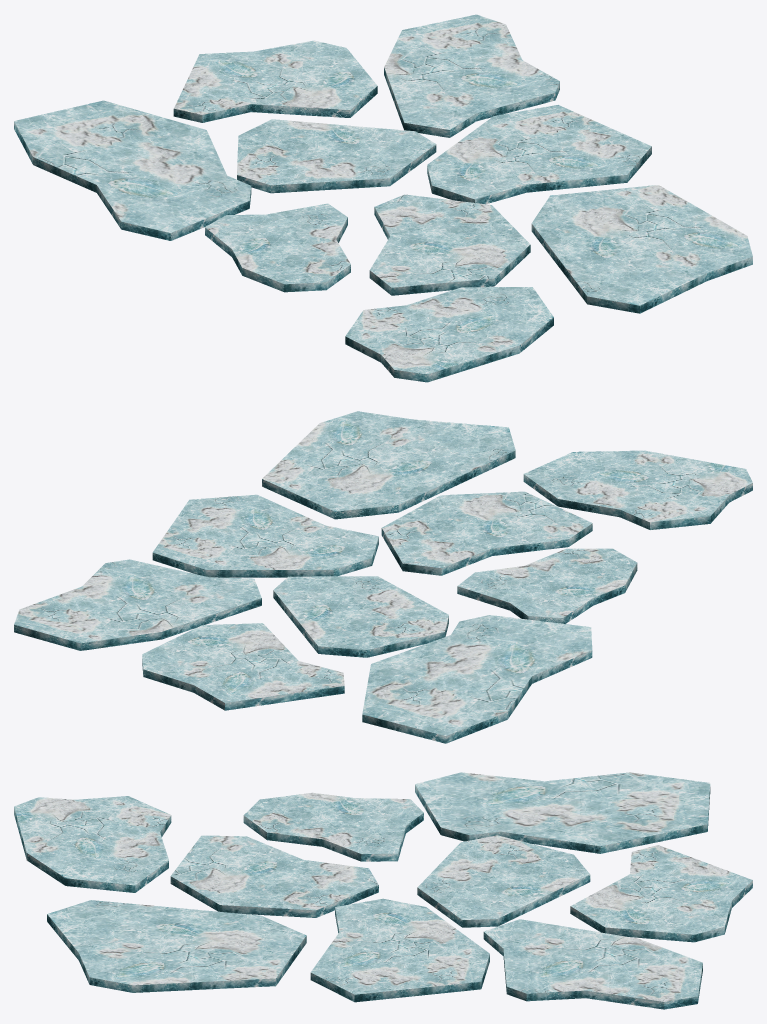
Rendered from environment_stone_bingkuai_001_a.FBX.
3 renders of one model, top to bottom at view 1: azimuth 30°, elevation 25°; view 2: azimuth 150°, elevation 25°; view 3: azimuth 270°, elevation 25°, orthographic. The views are drawn at different scales.
Parts seen in each view (by area): view 1: environment_stone_bingkuai_001_a, environment_stone_bingkuai_001_f, environment_stone_bingkuai_001_d, environment_stone_bingkuai_001_e, environment_stone_bingkuai_001_j, environment_stone_bingkuai_001_c, environment_stone_bingkuai_001_g, environment_stone_bingkuai_001_b, environment_stone_bingkuai_001_h; view 2: environment_stone_bingkuai_001_a, environment_stone_bingkuai_001_f, environment_stone_bingkuai_001_e, environment_stone_bingkuai_001_d, environment_stone_bingkuai_001_j, environment_stone_bingkuai_001_g, environment_stone_bingkuai_001_c, environment_stone_bingkuai_001_b, environment_stone_bingkuai_001_h; view 3: environment_stone_bingkuai_001_a, environment_stone_bingkuai_001_f, environment_stone_bingkuai_001_e, environment_stone_bingkuai_001_d, environment_stone_bingkuai_001_j, environment_stone_bingkuai_001_g, environment_stone_bingkuai_001_c, environment_stone_bingkuai_001_b, environment_stone_bingkuai_001_h.
Part boxes in pixels (<box>): environment_stone_bingkuai_001_a: <box>14,100,251,240</box>; environment_stone_bingkuai_001_f: <box>531,185,752,313</box>; environment_stone_bingkuai_001_d: <box>427,105,651,204</box>; environment_stone_bingkuai_001_e: <box>384,14,559,137</box>; environment_stone_bingkuai_001_j: <box>345,287,553,382</box>; environment_stone_bingkuai_001_c: <box>173,40,377,122</box>; environment_stone_bingkuai_001_g: <box>369,194,530,295</box>; environment_stone_bingkuai_001_b: <box>237,119,436,193</box>; environment_stone_bingkuai_001_h: <box>205,203,350,292</box>; environment_stone_bingkuai_001_a: <box>362,615,592,743</box>; environment_stone_bingkuai_001_f: <box>262,411,515,519</box>; environment_stone_bingkuai_001_e: <box>14,559,261,650</box>; environment_stone_bingkuai_001_d: <box>152,494,378,577</box>; environment_stone_bingkuai_001_j: <box>523,450,752,529</box>; environment_stone_bingkuai_001_g: <box>381,491,592,575</box>; environment_stone_bingkuai_001_c: <box>142,623,344,710</box>; environment_stone_bingkuai_001_b: <box>273,576,448,657</box>; environment_stone_bingkuai_001_h: <box>457,548,637,623</box>; environment_stone_bingkuai_001_a: <box>415,772,710,853</box>; environment_stone_bingkuai_001_f: <box>47,900,306,992</box>; environment_stone_bingkuai_001_e: <box>483,919,702,1009</box>; environment_stone_bingkuai_001_d: <box>310,898,489,1002</box>; environment_stone_bingkuai_001_j: <box>14,796,171,892</box>; environment_stone_bingkuai_001_g: <box>170,835,378,917</box>; environment_stone_bingkuai_001_c: <box>570,845,752,942</box>; environment_stone_bingkuai_001_b: <box>417,835,590,927</box>; environment_stone_bingkuai_001_h: <box>243,792,423,861</box>.
Size of the model in its own units: 3262 by 50.8 by 4438.
1 material, 1 textured.
